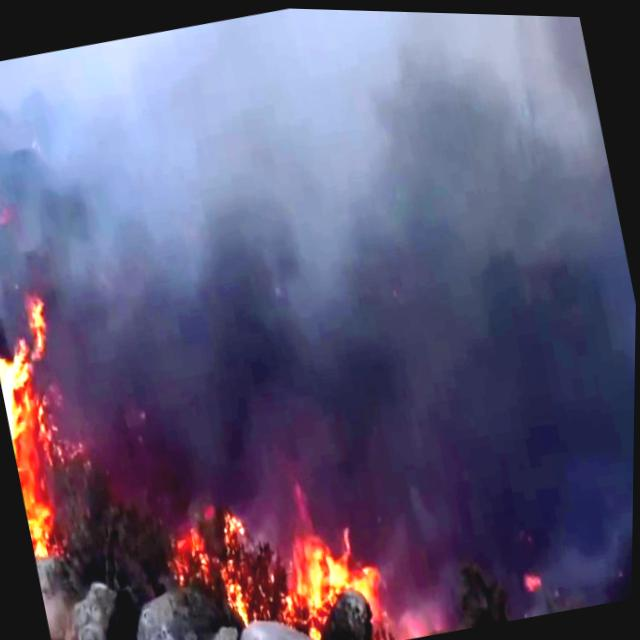fire: (0, 290, 91, 557)
smoke: (136, 3, 640, 526)
